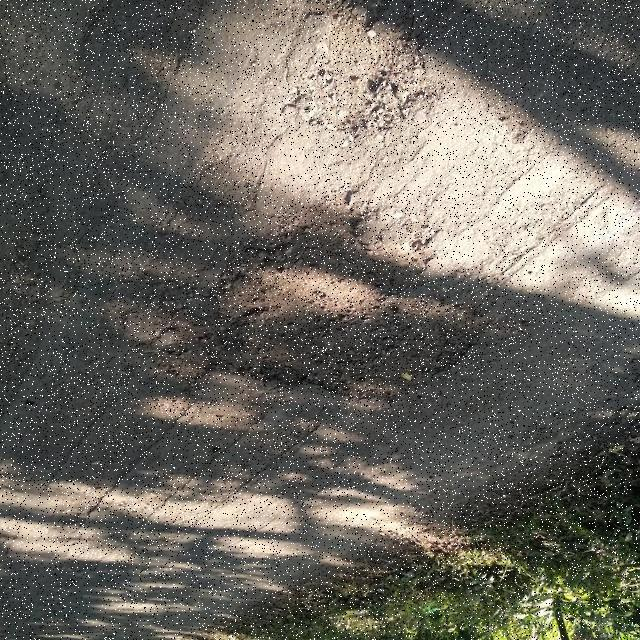Pothole: (100, 185, 526, 406), (298, 0, 442, 136)
